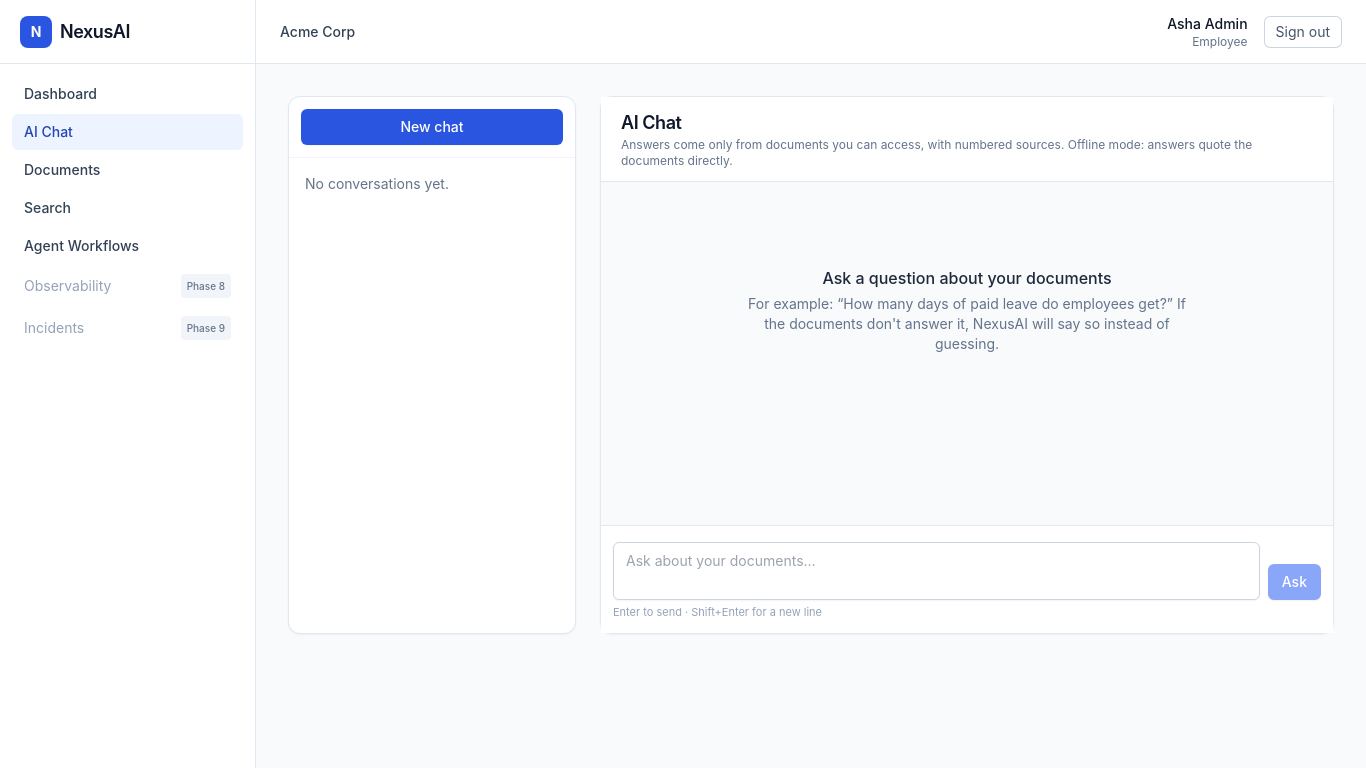
Test: AI Chat › asks a question, shows the cited answer and opens the new conversation
Expected: the text "Ask a question about your documents" is shown, [822,268,1112,288]
Expected: the text "Offline mode: answers quote the documents directly" is shown, [621,137,1252,168]
Type "How many days of paid leave do employees get?" into the text box named "Your question" at (936, 571), box [613,542,1260,600]
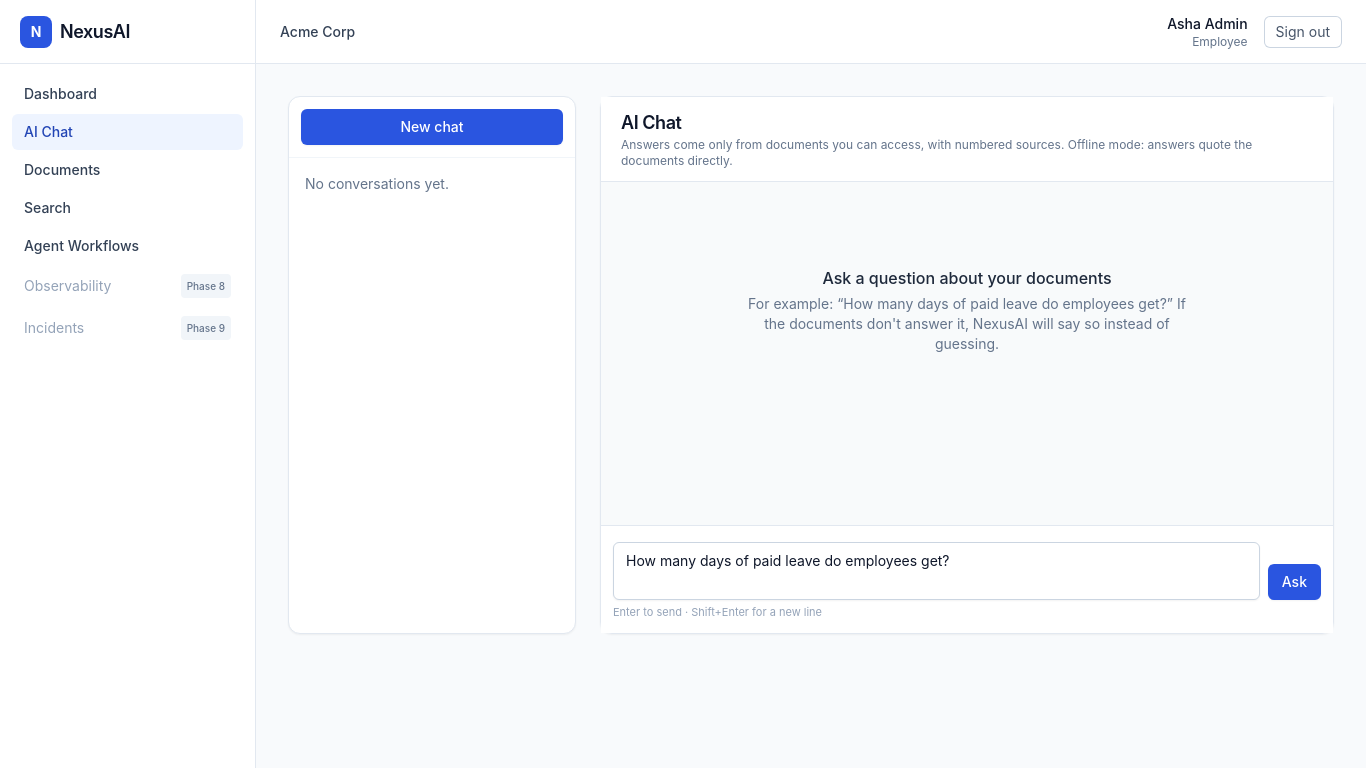
Press Enter in the text box named "Your question", box [613,542,1260,600]
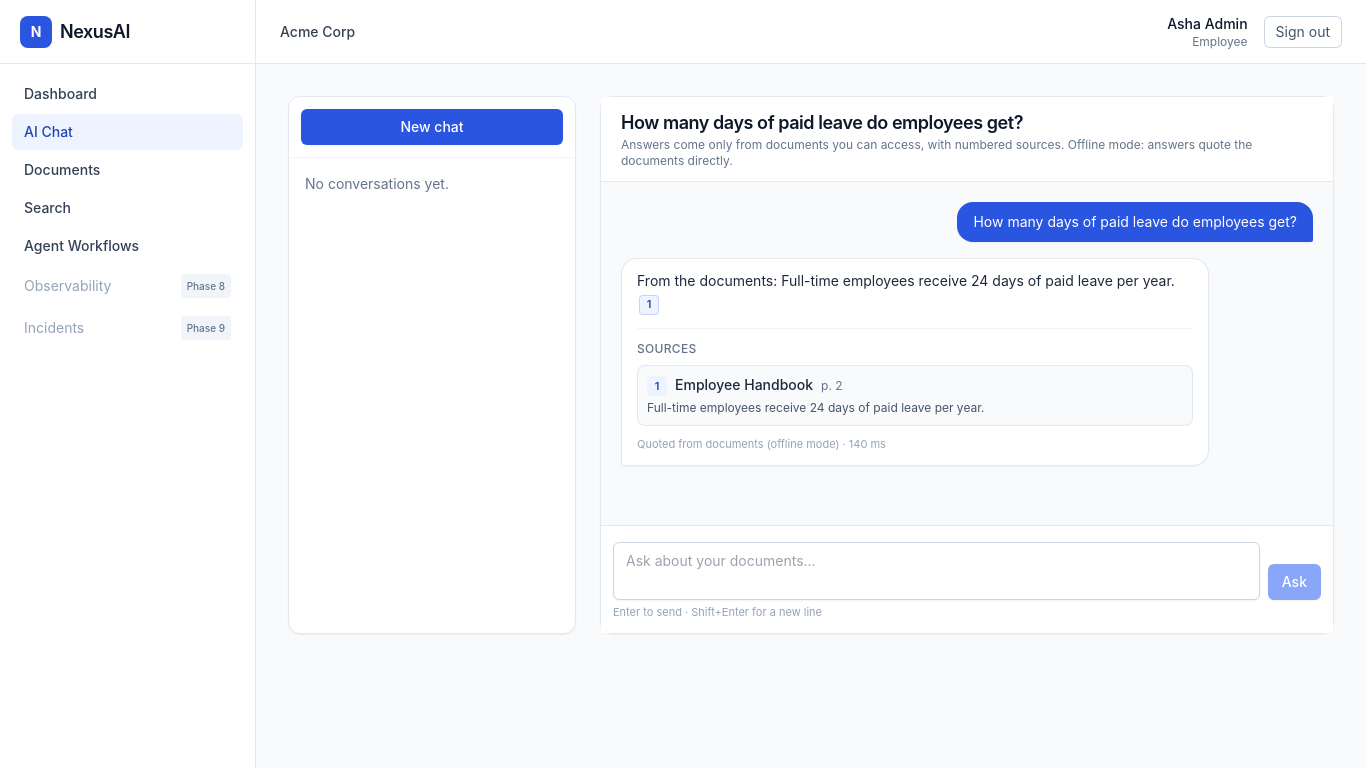
Now the text "Sources" is shown, box [637,340,696,356]
Now the text "From the documents: Full-time employees receive 24 days" is shown, box [637,272,1179,289]
Now the text "p. 2" is shown, box [821,378,843,392]
